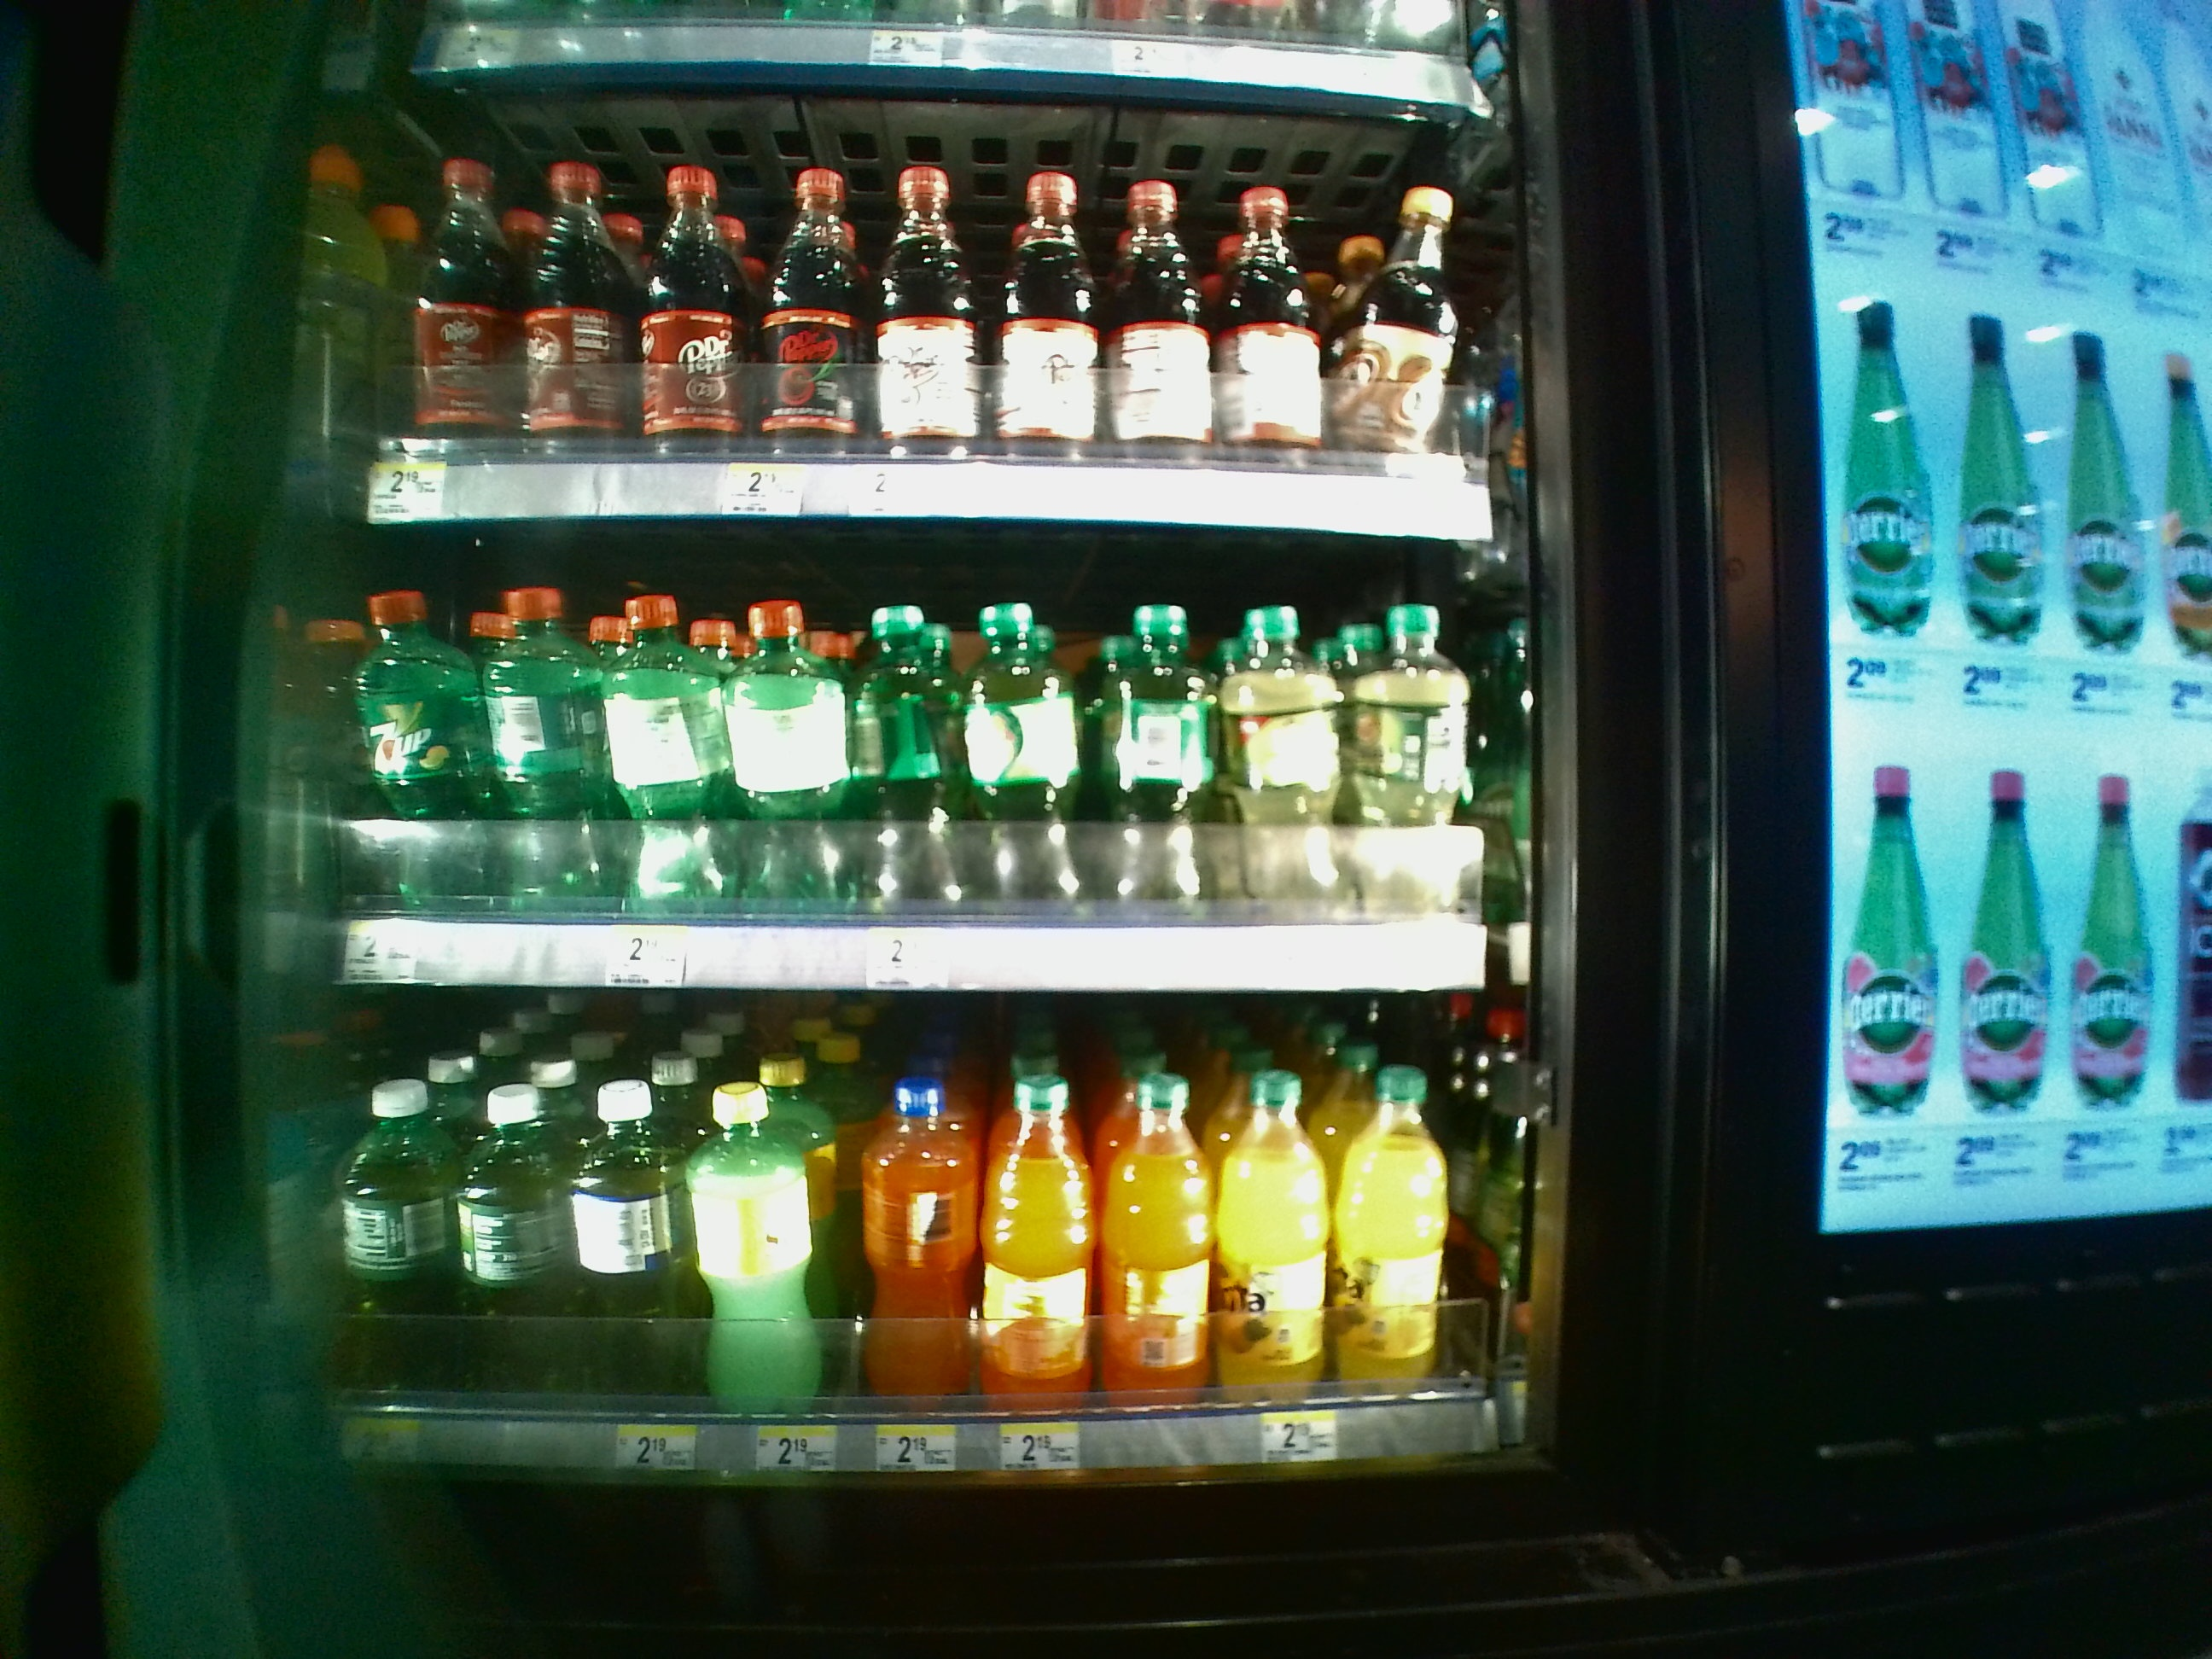shelf: (315, 990, 1555, 1486), (315, 521, 1545, 993)
